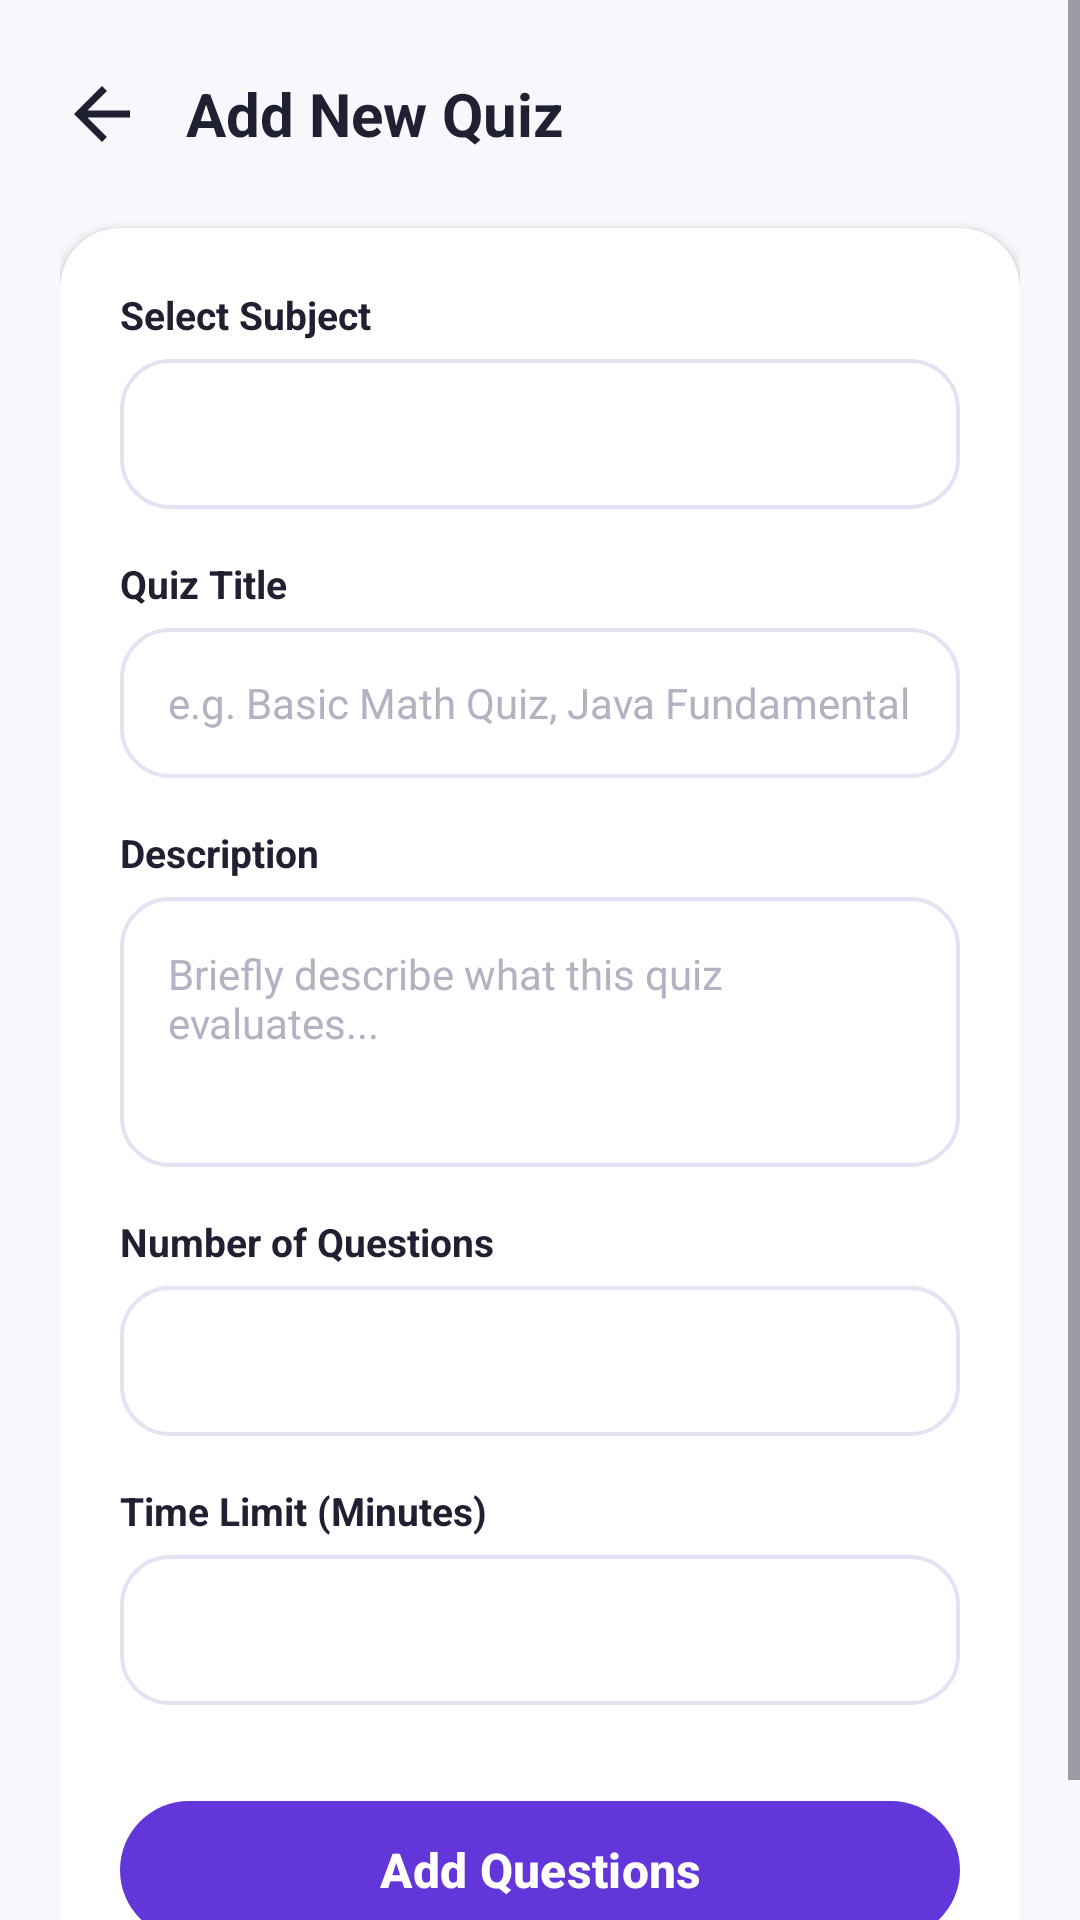

Named icons in this screenshot (1080×1920) and their centers, (x,y):
Back: (102,114)
